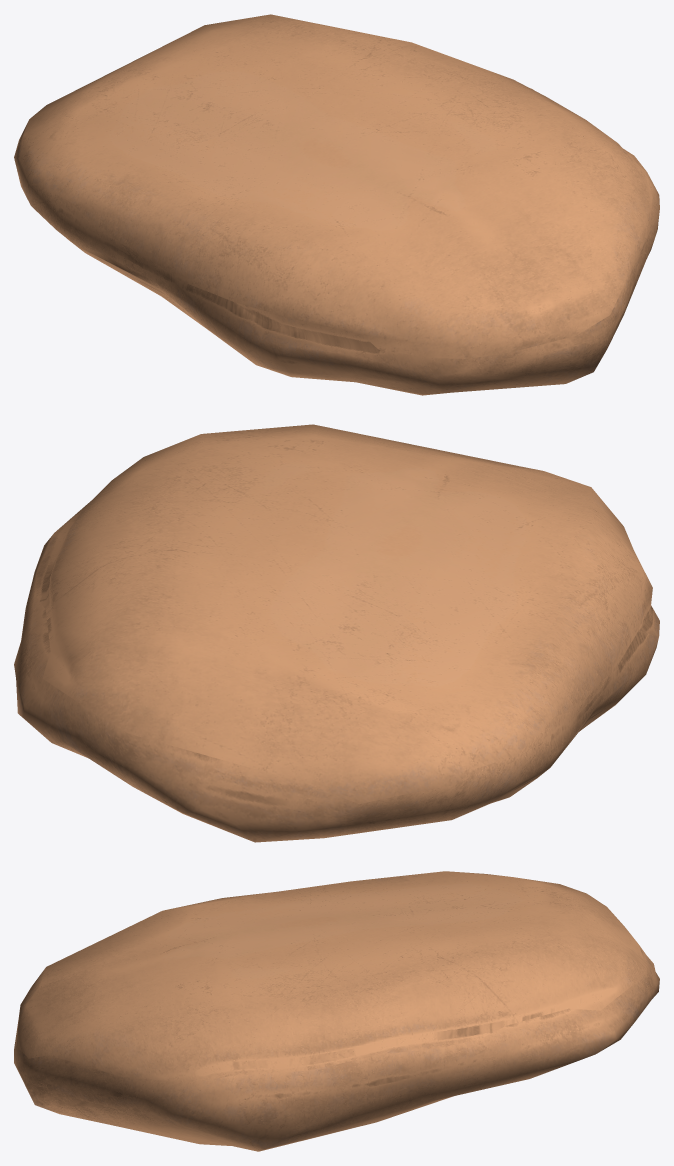
File: rock3.fbx
The picture shows the model from 3 angles, top to bottom: view 1: azimuth 30°, elevation 25°; view 2: azimuth 150°, elevation 25°; view 3: azimuth 270°, elevation 25°; orthographic projection. The views are drawn at different scales.
Visible parts, largest first — view 1: Cube.088; view 2: Cube.088; view 3: Cube.088.
Part boxes in pixels (x1,y1,x2,y2): Cube.088: [14, 14, 659, 395]; Cube.088: [14, 424, 659, 842]; Cube.088: [14, 871, 659, 1151].
Size of the model in its own units: 86.07 by 31.94 by 110.
1 material, 1 textured.
